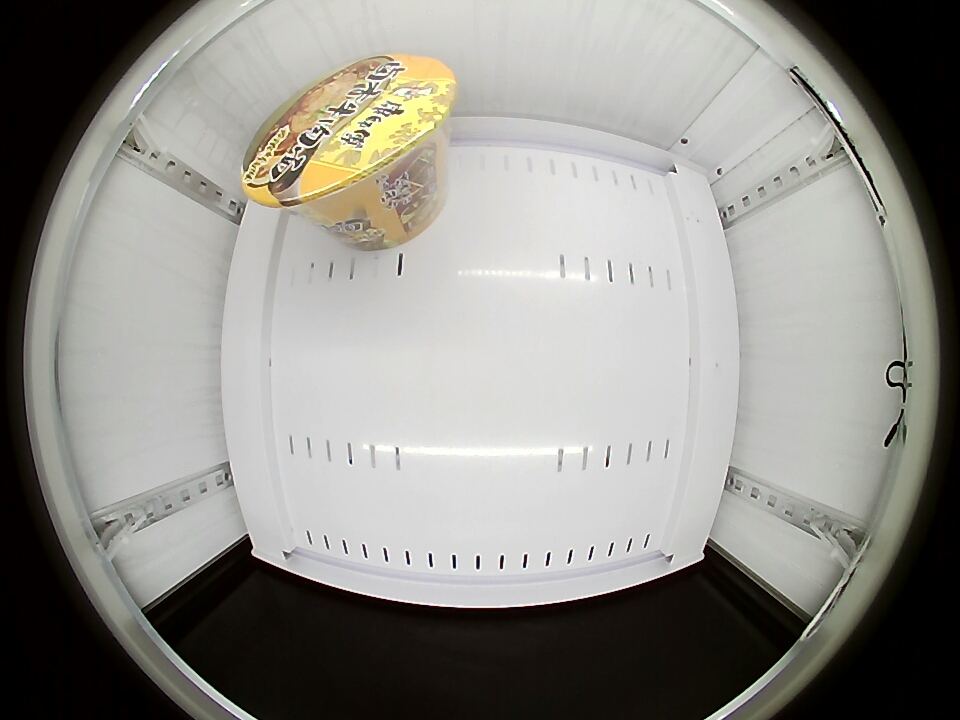luxiangniurou: (242, 54, 455, 216)
